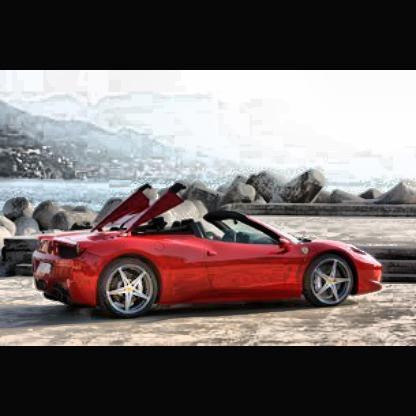Ferrari 458 Italia Convertible 2012: (38, 184, 384, 320)
